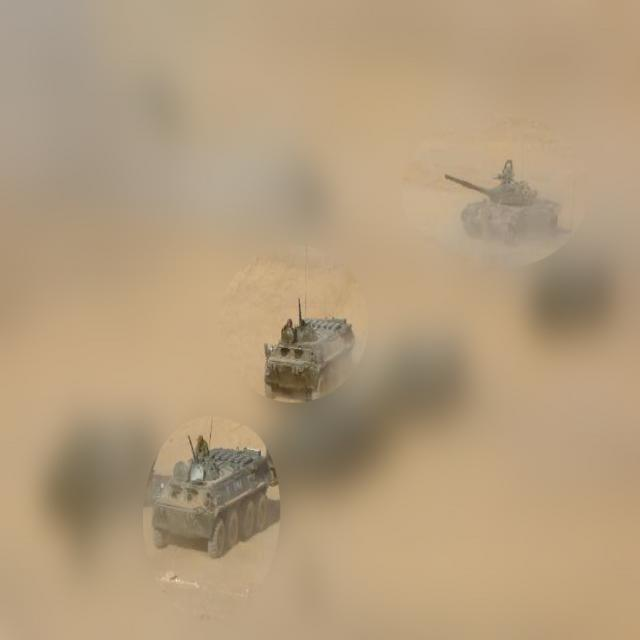tank: (152, 438, 269, 565), (440, 162, 566, 254), (260, 296, 362, 404)
